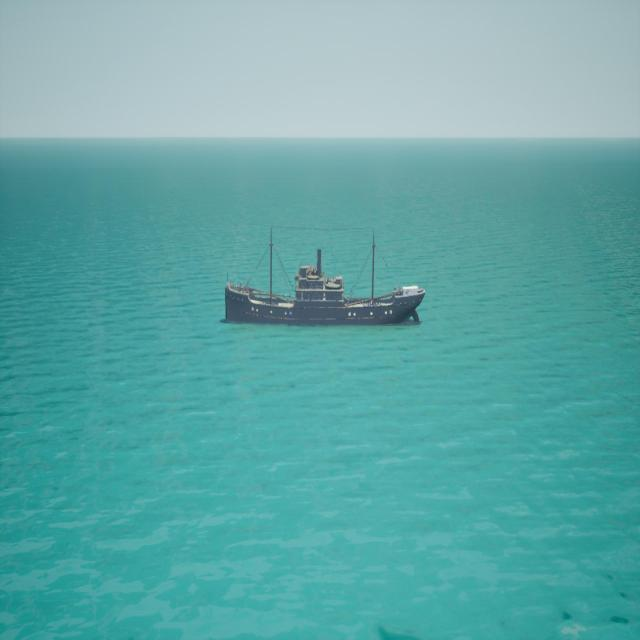fishing ship: (226, 232, 427, 328)
